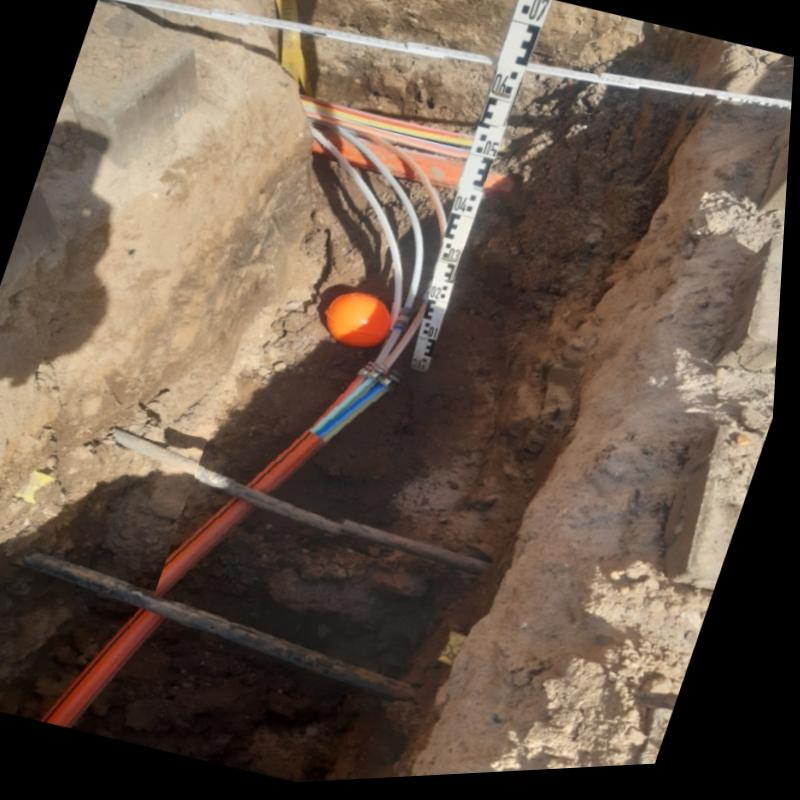Kugelmarker: (330, 298, 394, 351)
Orang-Speednetrohrchen: (161, 367, 409, 600), (305, 115, 524, 201)
